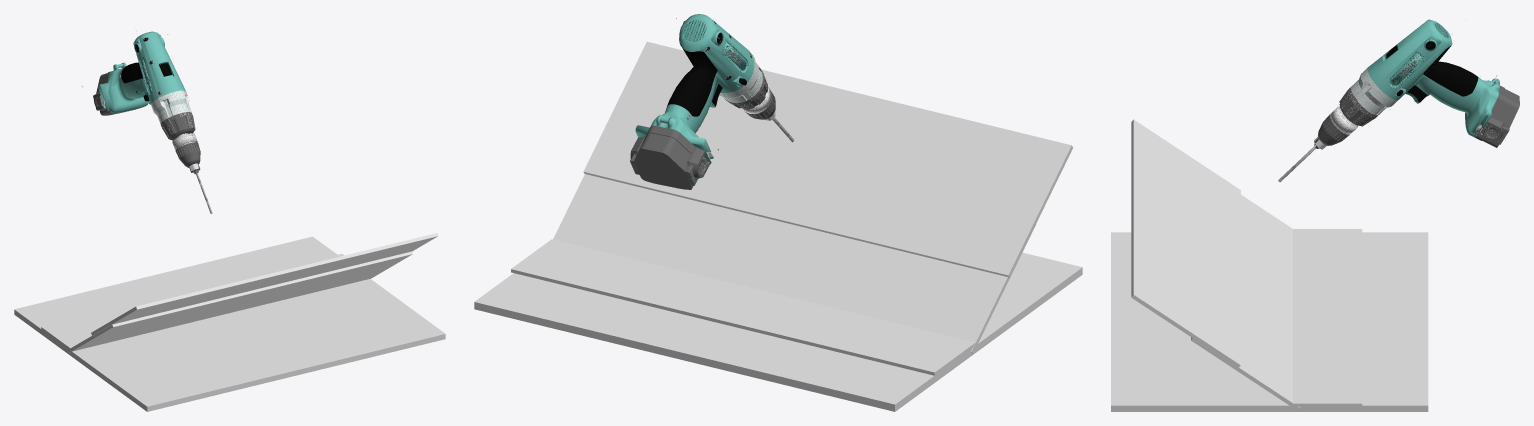
The model's file is PEÇA-teste.gltf.
3 renders of one model, left to right at view 1: azimuth 30°, elevation 25°; view 2: azimuth 150°, elevation 25°; view 3: azimuth 270°, elevation 25°, orthographic. The views are drawn at different scales.
Parts seen in each view (by area): view 1: Cube, Cube.001, Cube.002, group_28.001, Cube.003, group_25, group_27.003, group_26; view 2: Cube.002, Cube.001, Cube, Cube.003, group_28.001, group_16, group_28.003, group_25; view 3: Cube, Cube.002, Cube.003, Cube.001, group_28.001, group_28.003, group_25, group_16, group_26.001, group_27.003, group_27.001.
Part boxes in pixels (x1,y1,x2,y2): Cube: (14,236,445,411); Cube.001: (67,251,412,353); Cube.002: (91,233,438,335); group_28.001: (98,31,185,113); Cube.003: (41,254,343,349); group_25: (151,90,191,123); group_27.003: (175,142,200,167); group_26: (163,114,195,140); Cube.002: (583,41,1072,277); Cube.001: (553,174,1036,354); Cube: (474,252,1082,411); Cube.003: (511,239,975,375); group_28.001: (635,14,754,163); group_16: (634,133,693,189); group_28.003: (667,48,715,116); group_25: (719,51,762,102); Cube: (1111,232,1428,411); Cube.002: (1131,119,1240,367); Cube.003: (1293,229,1362,406); Cube.001: (1191,195,1300,410); group_28.001: (1367,19,1499,137); group_28.003: (1425,45,1478,96); group_25: (1351,67,1398,115); group_16: (1482,89,1519,147); group_26.001: (1339,87,1377,126); group_27.003: (1318,115,1348,145); group_27.001: (1330,106,1357,134).
Bounding box in the file's own units: 0.6055 × 0.4873 × 0.5959.
